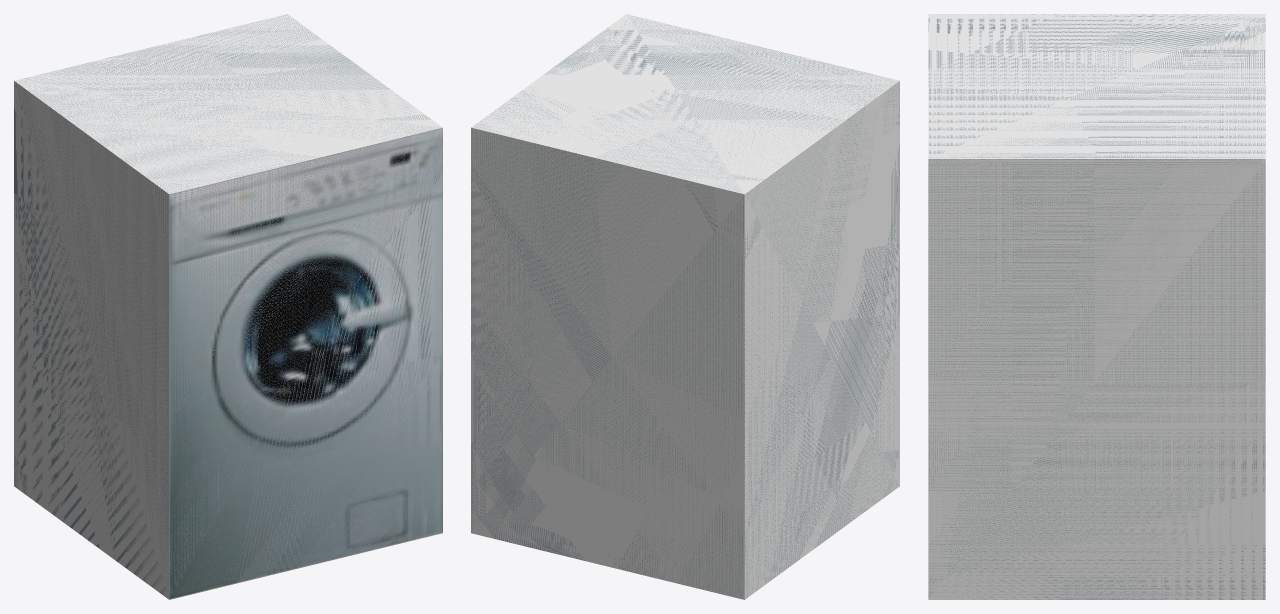
The picture shows the model from 3 angles, left to right: view 1: azimuth 30°, elevation 25°; view 2: azimuth 150°, elevation 25°; view 3: azimuth 270°, elevation 25°; orthographic projection. The views are drawn at different scales.
Visible parts, largest first — view 1: SketchUp (×2); view 2: SketchUp; view 3: SketchUp.
Boxes of the visible parts, x1,y1,x2,y2 form: SketchUp (×2): (14,14,442,599); SketchUp: (471,14,899,599); SketchUp: (928,14,1265,599).
Size of the model in its own units: 23.62 by 23.23 by 33.46.
Materials: 3 (1 with a texture image).
